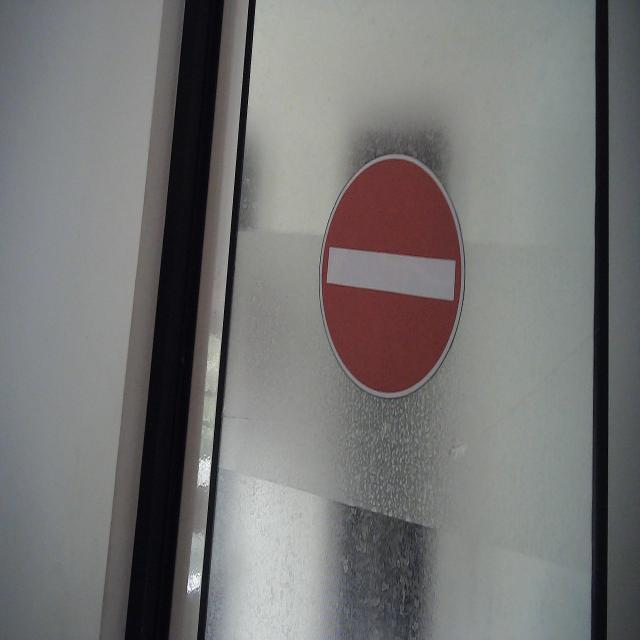no_entry: (318, 152, 468, 402)
